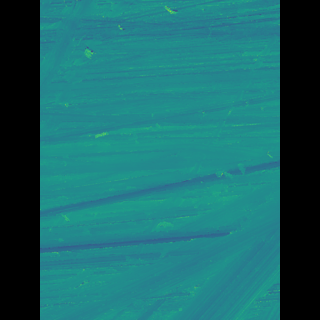Loch: (132, 29, 249, 280), (73, 181, 250, 319), (70, 156, 250, 225)
